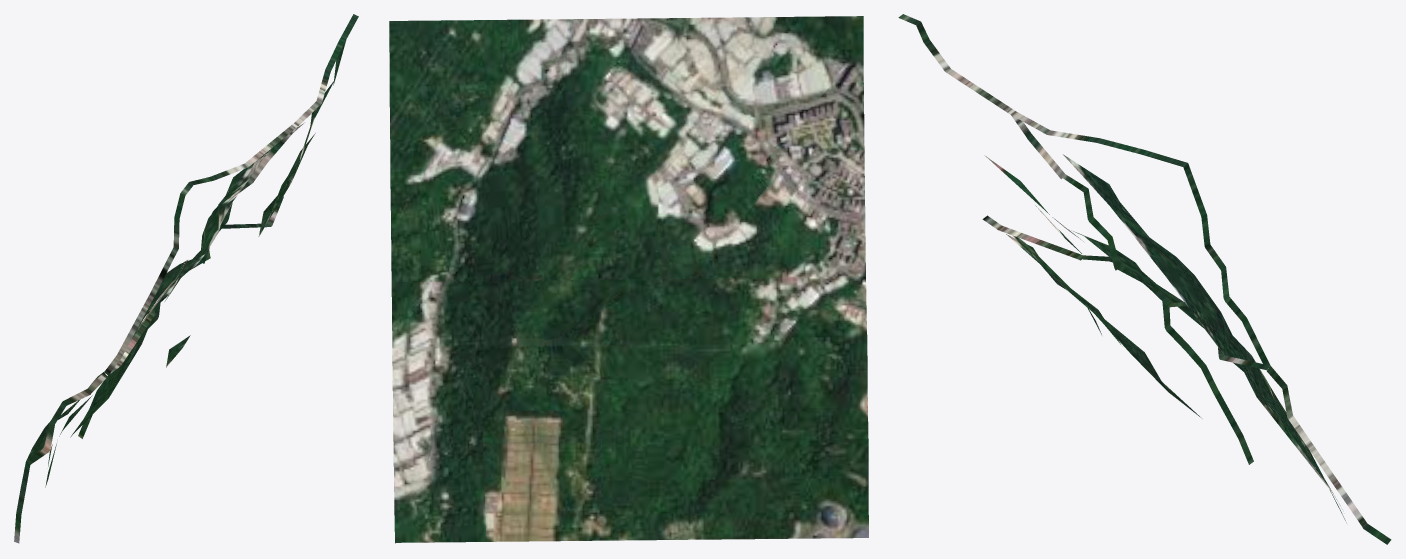
The picture shows the model from 3 angles, left to right: view 1: azimuth 30°, elevation 25°; view 2: azimuth 150°, elevation 25°; view 3: azimuth 270°, elevation 25°; orthographic projection. The views are drawn at different scales.
Bounding box in the file's own units: 1168 × 1161 × 1135.
1 material, 1 textured.
